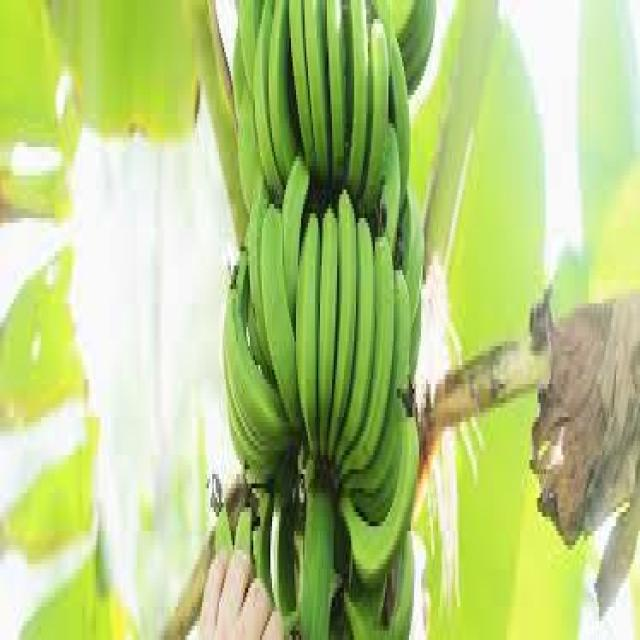banana: (221, 2, 420, 633)
